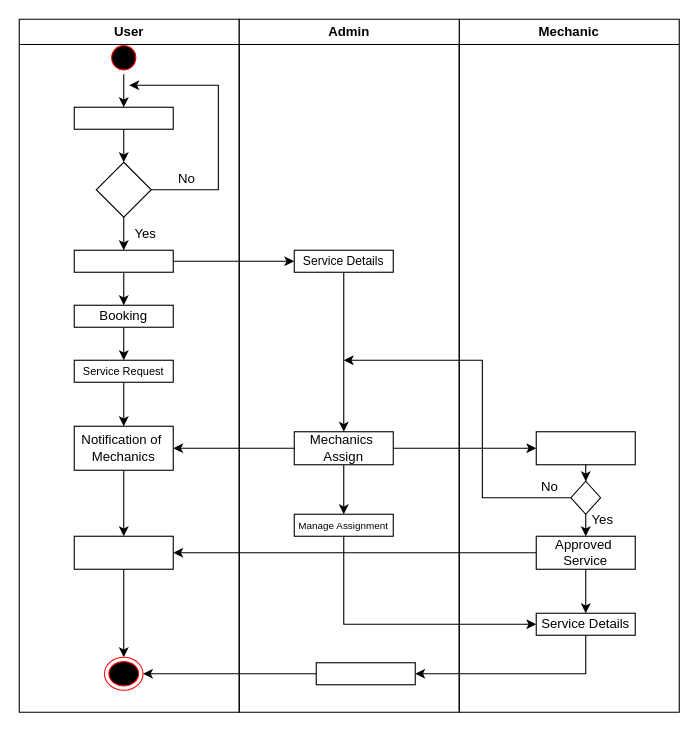
Some shapes in this 699 by 732 pixel diagram are drawn without their labels. The centre of each missing label's shape, as x and y in pixels:
"Assign Report" goes at point (365, 673).
"Enquiry" goes at point (123, 260).
"Login" goes at point (123, 117).
"Notification of Service" goes at point (585, 448).
"Track Service Assignment" goes at point (123, 552).
